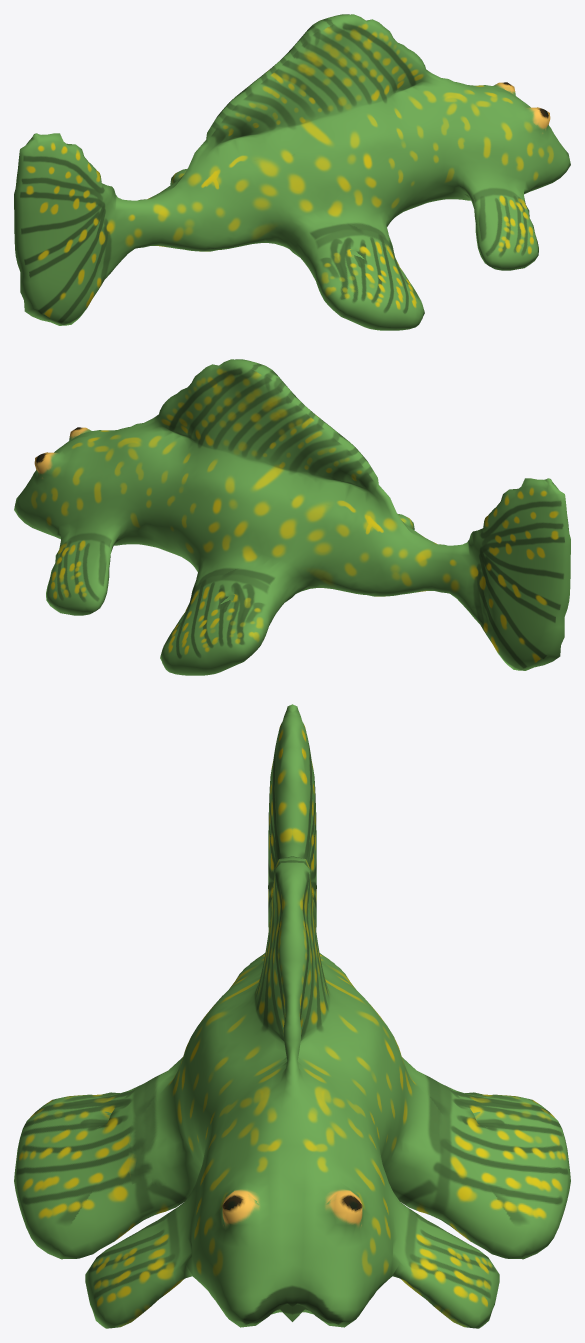
The model's file is Pez_Limpiador.fbx.
3 views of the same model, one above another, from view 1: azimuth 30°, elevation 25°; view 2: azimuth 150°, elevation 25°; view 3: azimuth 270°, elevation 25° (orthographic). The views are drawn at different scales.
Parts seen in each view (by area): view 1: Pez_lipiador; view 2: Pez_lipiador; view 3: Pez_lipiador.
Part boxes in pixels (x1=…): Pez_lipiador: x1=14, y1=14, x2=570, y2=330; Pez_lipiador: x1=14, y1=359, x2=570, y2=675; Pez_lipiador: x1=14, y1=704, x2=570, y2=1328.
Bounding box in the file's own units: 786 × 350 × 453.
